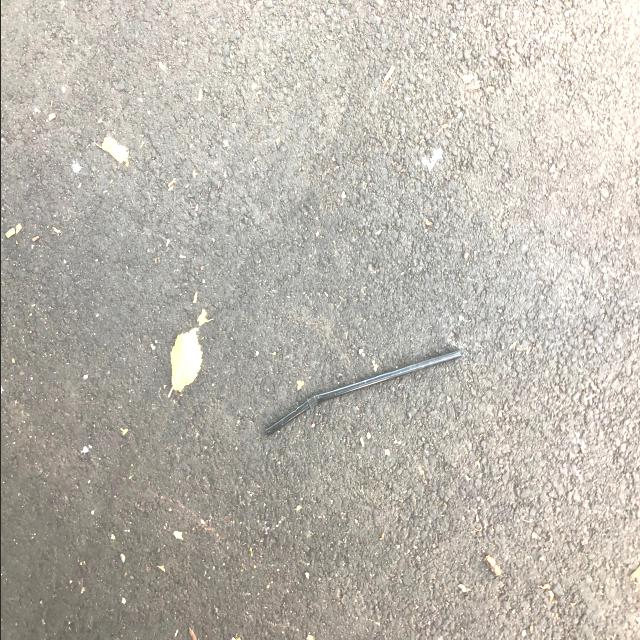Plastic straw: (264, 349, 460, 437)
